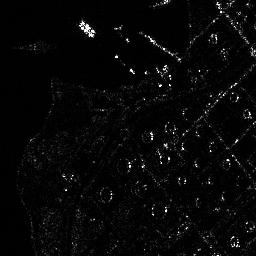ship: (78, 21, 97, 38)
